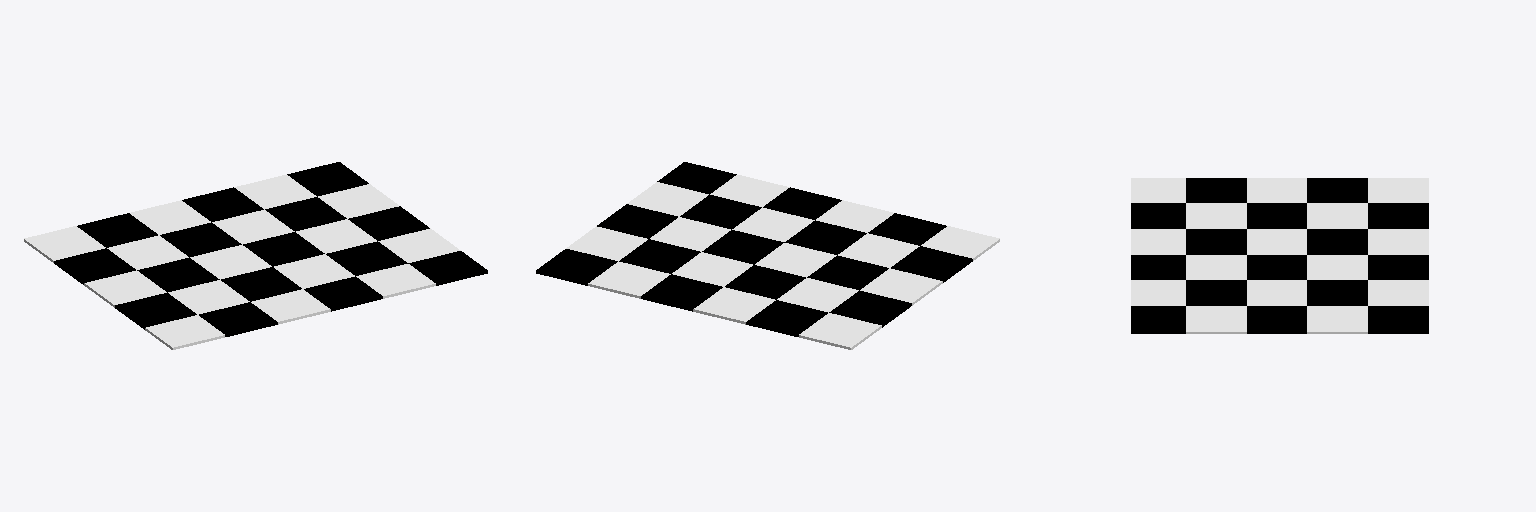
3 views of the same model, side by side, from view 1: azimuth 30°, elevation 25°; view 2: azimuth 150°, elevation 25°; view 3: azimuth 270°, elevation 25° (orthographic).
Parts seen in each view (by area): view 1: tile-floor; view 2: tile-floor; view 3: tile-floor.
Boxes of the visible parts, x1=… form: tile-floor: x1=24, y1=162, x2=487, y2=349; tile-floor: x1=536, y1=162, x2=999, y2=349; tile-floor: x1=1131, y1=178, x2=1428, y2=333.
Bounding box in the file's own units: 126 × 1 × 103.
Materials: 1 (1 with a texture image).